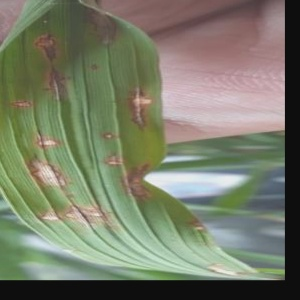Brown_Spot: (61, 199, 123, 233), (23, 152, 66, 193), (40, 60, 75, 109), (122, 159, 155, 210), (126, 73, 157, 127), (32, 22, 73, 59), (0, 93, 46, 123), (32, 199, 65, 233), (21, 128, 65, 151), (94, 126, 127, 150), (104, 149, 135, 171), (184, 213, 212, 232)
